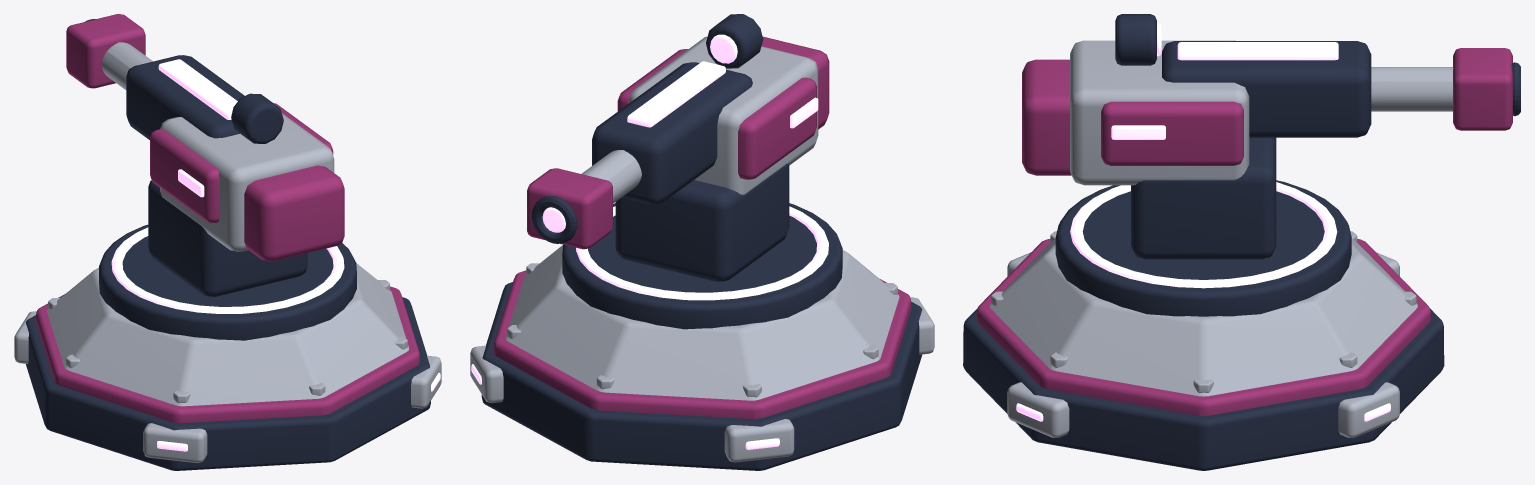
File: sniper.glb
3 renders of one model, left to right at view 1: azimuth 30°, elevation 25°; view 2: azimuth 150°, elevation 25°; view 3: azimuth 270°, elevation 25°, orthographic. The views are drawn at different scales.
Visible parts, largest first — view 1: Sloped armor, Anchored chassis, Turret bearing, Beveled instrument housing, Trim, Rear battery, Raised swivel, Long emitter shroud, Adjustable side cheek, Optical muzzle guard, Power ring, Tracking optic (+5 smaller); view 2: Sloped armor, Anchored chassis, Turret bearing, Raised swivel, Long emitter shroud, Trim, Beveled instrument housing, Adjustable side cheek, Optical muzzle guard, Power ring, Rail marker, Inset chassis panel.001 (+8 smaller); view 3: Sloped armor, Anchored chassis, Turret bearing, Raised swivel, Long emitter shroud, Beveled instrument housing, Trim, Adjustable side cheek.001, Rear battery, Optical muzzle guard, Power ring, Long lens tube (+5 smaller).
Part boxes in pixels (x1,y1,x2,y2): Sloped armor: (46,263,409,406); Anchored chassis: (26,297,430,470); Turret bearing: (99,224,356,340); Beveled instrument housing: (160,113,334,251); Trim: (36,286,419,423); Rear battery: (244,165,344,261); Raised swivel: (148,180,307,296); Long emitter shroud: (126,55,244,139); Adjustable side cheek: (150,129,219,222); Optical muzzle guard: (66,14,145,88); Power ring: (111,227,344,313); Tracking optic: (231,93,283,143); Sloped armor: (505,245,899,400); Anchored chassis: (481,282,922,470); Turret bearing: (562,203,842,329); Raised swivel: (615,164,789,281); Long emitter shroud: (592,62,752,204); Trim: (493,270,911,418); Beveled instrument housing: (628,36,818,194); Adjustable side cheek: (738,77,816,179); Optical muzzle guard: (527,168,612,249); Power ring: (576,206,828,300); Rail marker: (627,61,725,127); Inset chassis panel.001: (724,419,794,462); Sloped armor: (989,238,1417,396); Anchored chassis: (963,308,1444,470); Turret bearing: (1055,180,1351,316); Raised swivel: (1131,137,1276,259); Long emitter shroud: (1162,41,1371,137); Beveled instrument housing: (1070,40,1249,185); Trim: (976,239,1430,415); Adjustable side cheek.001: (1101,101,1243,165); Rear battery: (1022,59,1071,175); Optical muzzle guard: (1453,48,1512,130); Power ring: (1070,182,1337,288); Long lens tube: (1371,67,1453,111).
Bounding box in the file's own units: 1.85 × 1.51 × 2.15.
